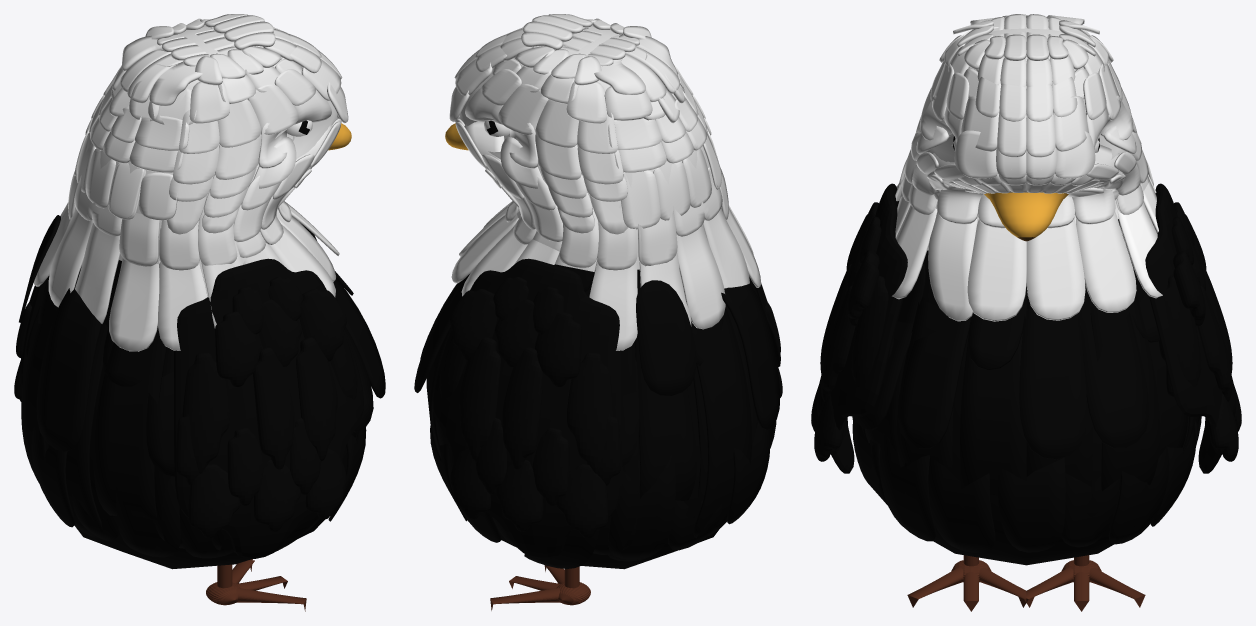
File: Eagle.fbx
3 views of the same model, side by side, from view 1: azimuth 30°, elevation 25°; view 2: azimuth 150°, elevation 25°; view 3: azimuth 270°, elevation 25° (orthographic). The views are drawn at different scales.
Parts seen in each view (by area): view 1: Eagle-Body.001, Eagle-Wing.001, Eagle-Foot.001; view 2: Eagle-Body.001, Eagle-Wing.001, Eagle-Foot.001; view 3: Eagle-Body.001, Eagle-Wing.001, Eagle-Foot.001.
Part boxes in pixels (x1=…): Eagle-Body.001: x1=19, y1=14, x2=385, y2=569; Eagle-Wing.001: x1=14, y1=258, x2=363, y2=558; Eagle-Foot.001: x1=206, y1=559, x2=306, y2=611; Eagle-Body.001: x1=414, y1=14, x2=780, y2=569; Eagle-Wing.001: x1=433, y1=258, x2=782, y2=558; Eagle-Foot.001: x1=490, y1=565, x2=590, y2=610; Eagle-Body.001: x1=852, y1=14, x2=1201, y2=565; Eagle-Wing.001: x1=811, y1=183, x2=1241, y2=473; Eagle-Foot.001: x1=907, y1=555, x2=1145, y2=611.
Size of the model in its own units: 87.79 by 143 by 99.33.
